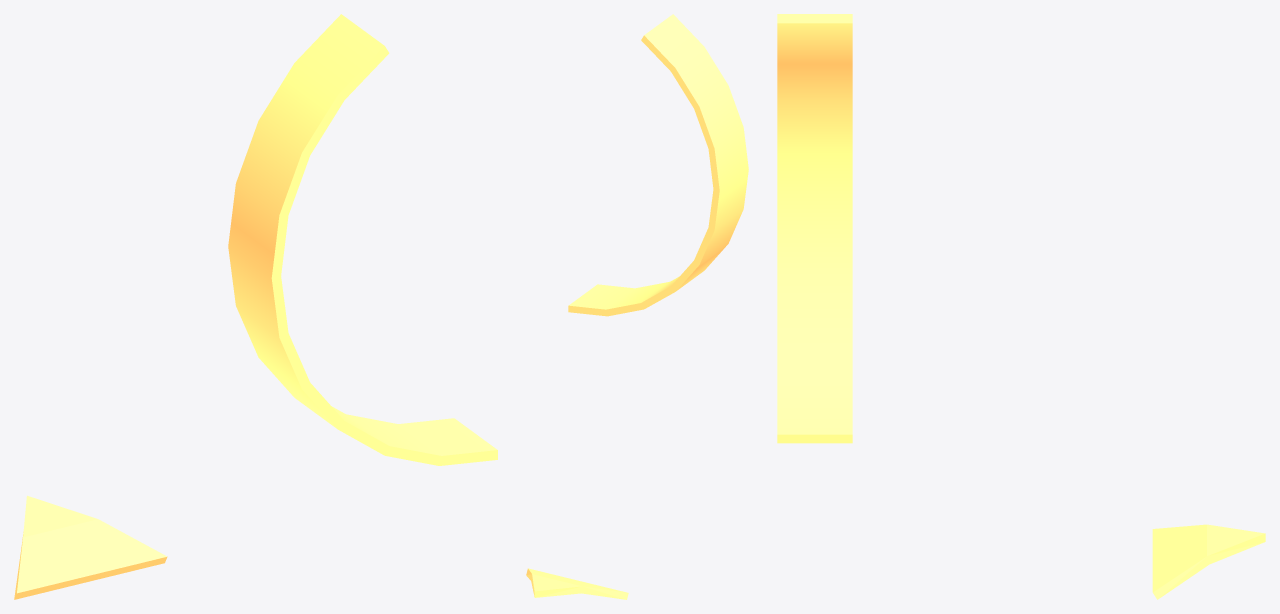
Rendered from arrow-loft.glb.
The picture shows the model from 3 angles, left to right: view 1: azimuth 30°, elevation 25°; view 2: azimuth 150°, elevation 25°; view 3: azimuth 270°, elevation 25°; orthographic projection. The views are drawn at different scales.
Visible parts, largest first — view 1: Material2 (×2); view 2: Material2 (×2); view 3: Material2 (×2).
Part boxes in pixels (x1,y1,x2,y2): Material2 (×2): (14, 14, 497, 599); Material2 (×2): (526, 14, 748, 599); Material2 (×2): (777, 14, 1265, 599).
Size of the model in its own units: 0.5542 by 1.36 by 1.03.
